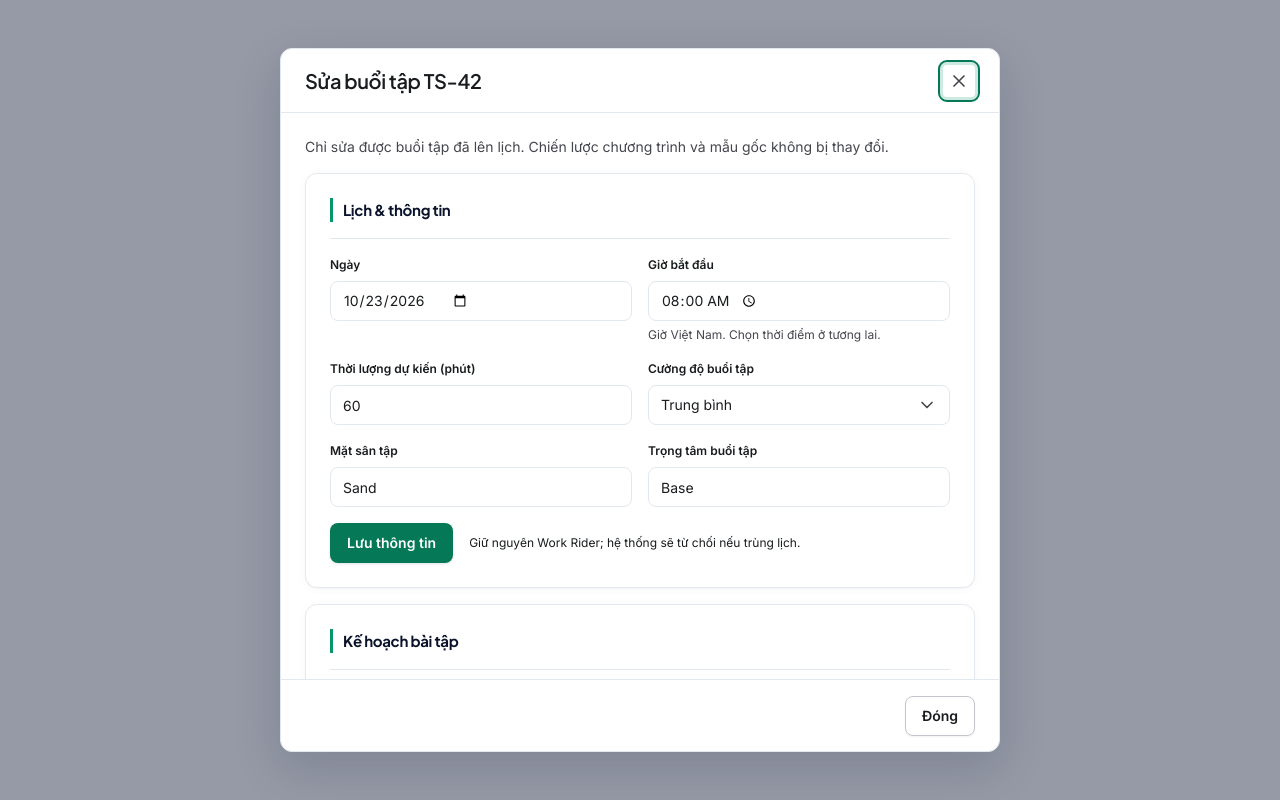
it: keeps the draft and sends no update when the selected start time has already passed
Click the button "Lưu thông tin". click: (392, 543)
box: [330,523,453,563]
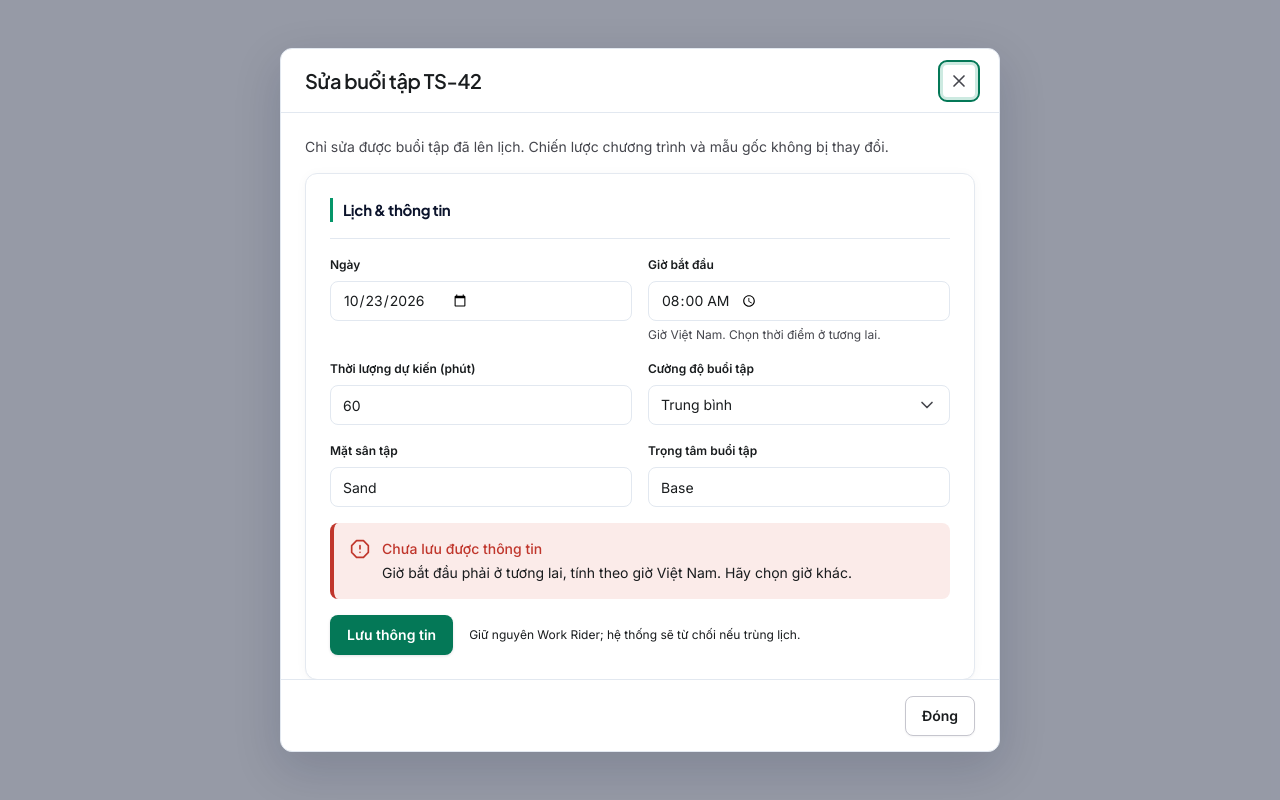
Expected: the field labelled "Mặt sân tập" holds "Sand", [330,467,632,507]
Result: the text "Giờ bắt đầu phải ở tương lai" is shown at [382,564,852,581]
